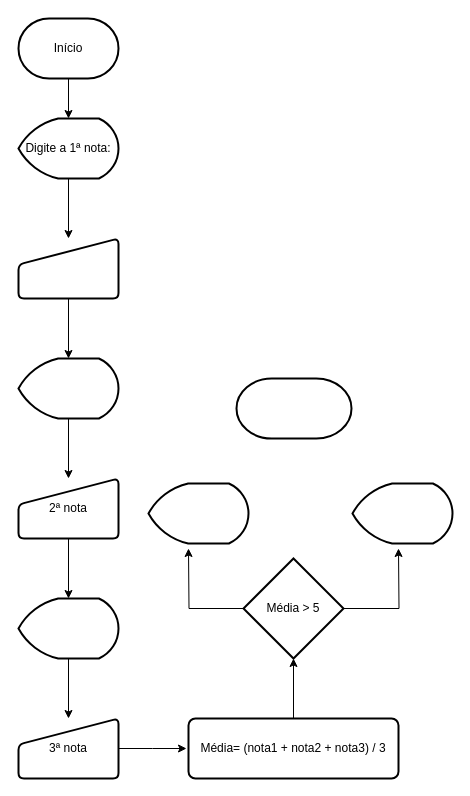
The diagram is 470 pixels wide and 796 high, and some of its shapes have lost their labels. Here are the shapes that lost their labels. From the top down, the box of each, then its label:
(17, 237, 119, 299): 1ª nota
(17, 357, 119, 419): Digite a 2ª nota:
(17, 597, 119, 659): Digite a 3ª nota:
